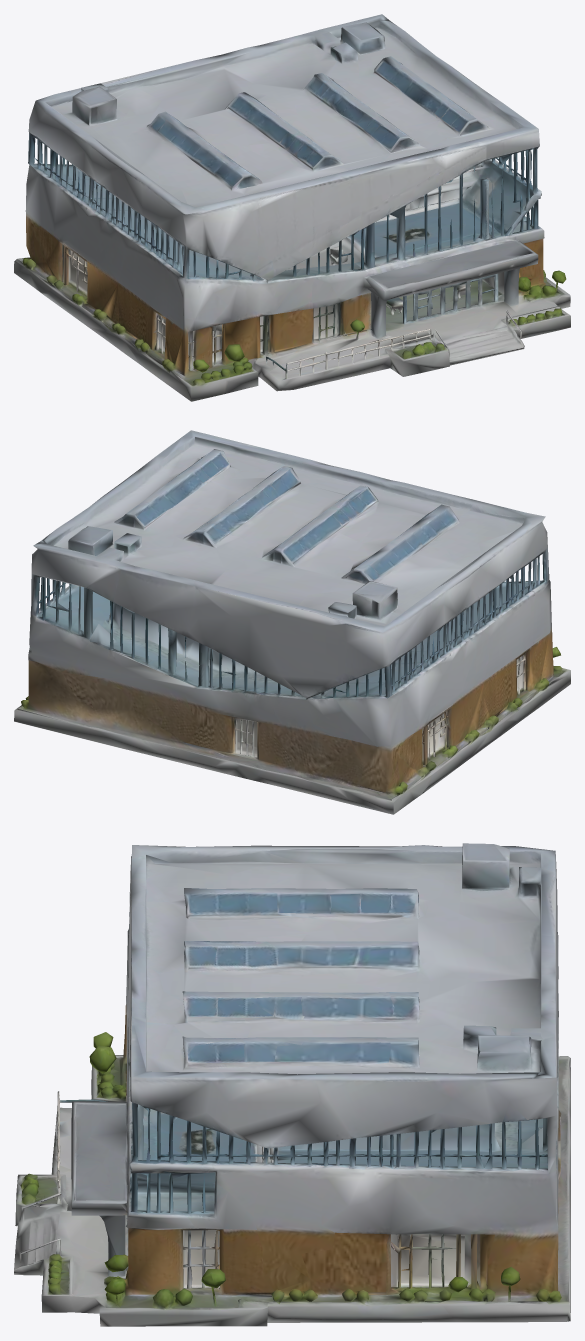
The model's file is gym.glb.
3 views of the same model, one above another, from view 1: azimuth 30°, elevation 25°; view 2: azimuth 150°, elevation 25°; view 3: azimuth 270°, elevation 25° (orthographic). The views are drawn at different scales.
Visible parts, largest first — view 1: tripo_node_79906abc-3414-4f5b-b0dd-4232e547672f; view 2: tripo_node_79906abc-3414-4f5b-b0dd-4232e547672f; view 3: tripo_node_79906abc-3414-4f5b-b0dd-4232e547672f.
Part boxes in pixels (x1,y1,x2,y2): tripo_node_79906abc-3414-4f5b-b0dd-4232e547672f: (14,14,570,401); tripo_node_79906abc-3414-4f5b-b0dd-4232e547672f: (14,430,570,814); tripo_node_79906abc-3414-4f5b-b0dd-4232e547672f: (14,843,570,1326).
Size of the model in its own units: 1 by 0.4662 by 0.925.
1 material, 1 textured.
